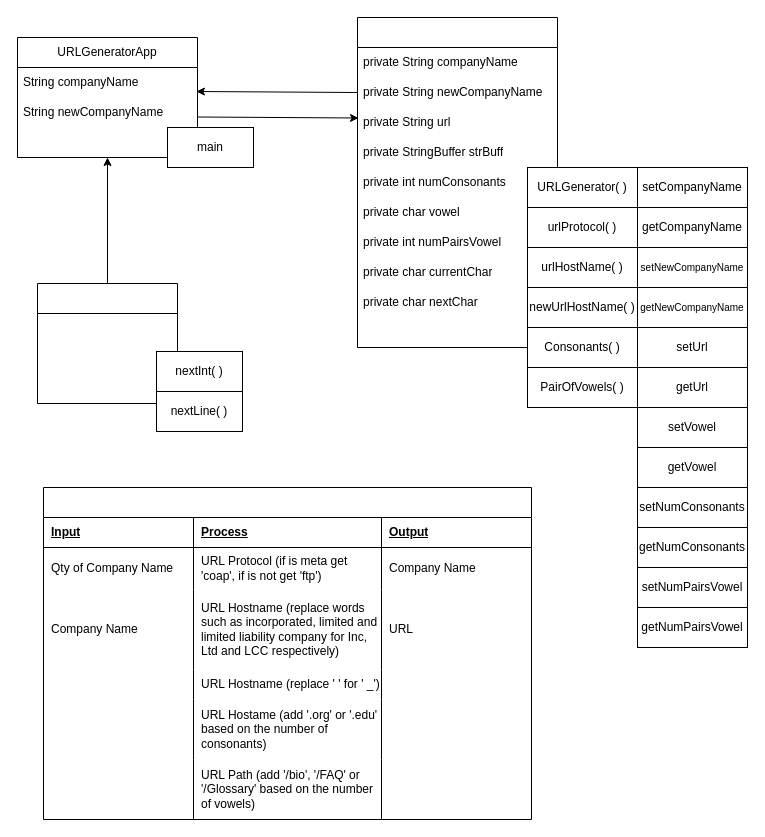
This 765x837 diagram has some shape labels left out. The box of each missing label's shape, as (x1, y1, x2, y2) in pixels:
Scanner: (36, 282, 178, 404)
URL Generator: (42, 486, 532, 820)
URLGenerator: (356, 16, 558, 348)
